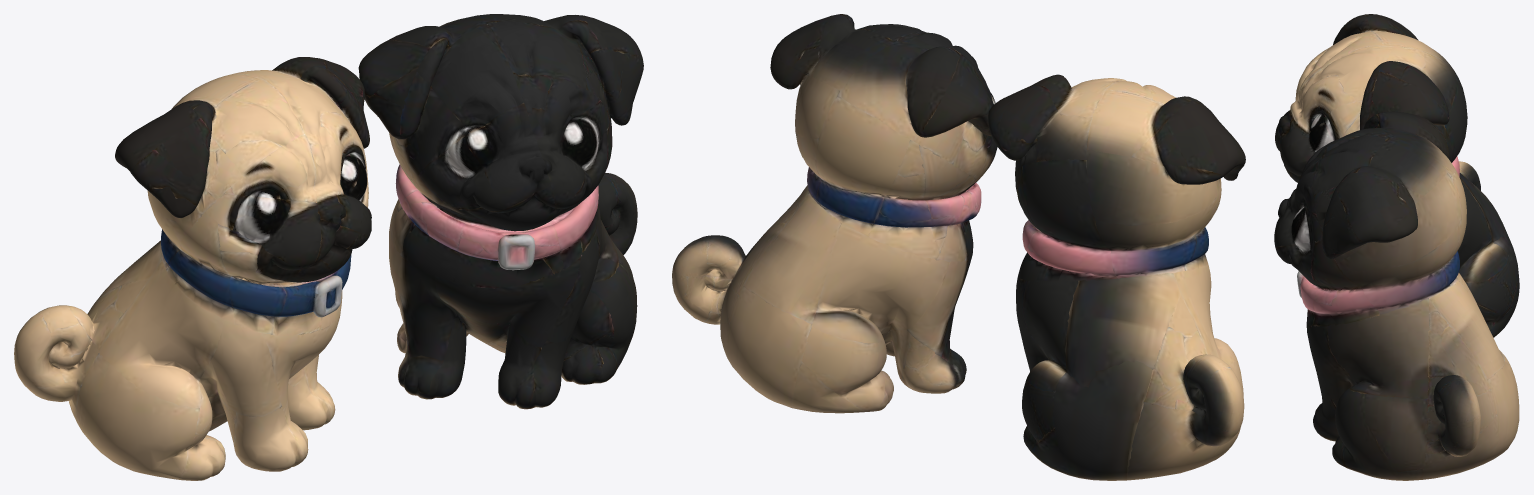
File: cata_trufa_combined_3.glb
3 views of the same model, side by side, from view 1: azimuth 30°, elevation 25°; view 2: azimuth 150°, elevation 25°; view 3: azimuth 270°, elevation 25° (orthographic). The views are drawn at different scales.
Parts seen in each view (by area): view 1: mesh_node; view 2: mesh_node; view 3: mesh_node.
Boxes of the visible parts, <box> form: mesh_node: <box>14,14,643,480</box>; mesh_node: <box>672,14,1245,480</box>; mesh_node: <box>1274,14,1519,480</box>.
Size of the model in its own units: 1.9 by 1.07 by 0.8033.
1 material, 1 textured.
